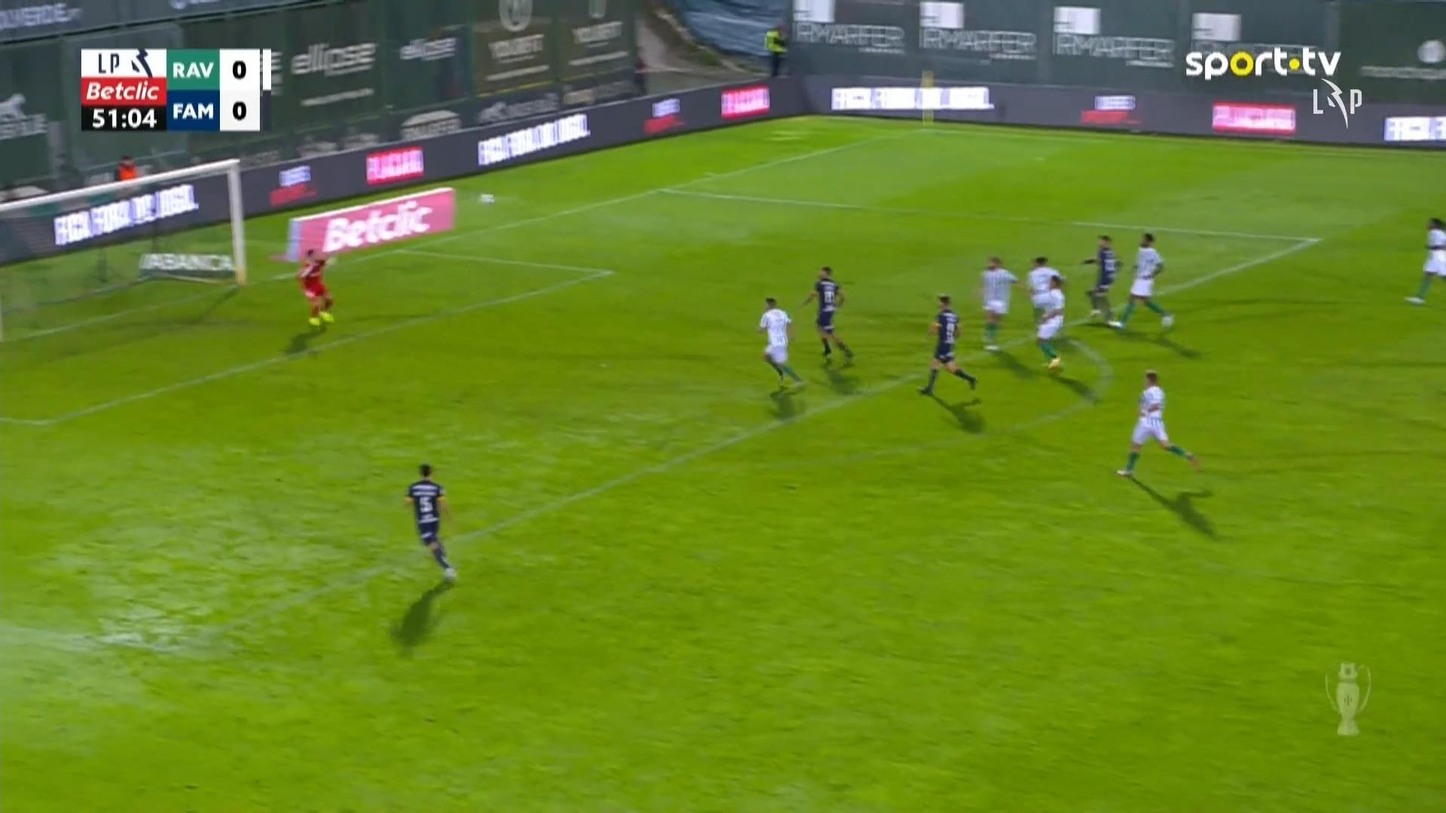ball: (478, 191, 498, 209)
goalkeeper: (296, 247, 337, 326)
player: (1115, 368, 1201, 477), (402, 462, 458, 582), (1112, 230, 1175, 330), (917, 293, 977, 395), (798, 265, 853, 365), (1026, 254, 1067, 370), (757, 296, 804, 391), (978, 254, 1018, 351), (1081, 233, 1122, 325), (1404, 216, 1444, 305)
